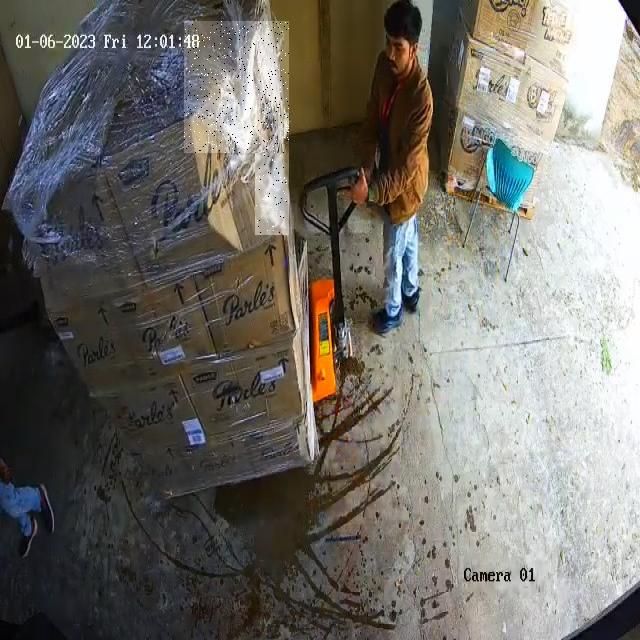leakage: (256, 144, 287, 233)
squeeze: (184, 22, 289, 153)
